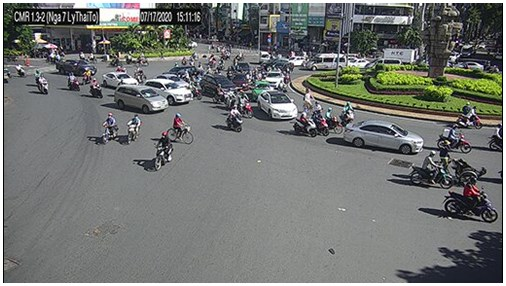xe_ban_tai: (56, 59, 96, 78)
xe_dap: (167, 113, 195, 144)
xe_hoi: (345, 120, 424, 156), (114, 84, 168, 113), (144, 78, 193, 105), (257, 91, 297, 121), (200, 75, 236, 98), (155, 73, 192, 94), (102, 72, 139, 89), (258, 59, 293, 74), (365, 58, 402, 71), (453, 59, 485, 73), (232, 73, 254, 92), (264, 71, 287, 89), (288, 54, 308, 68), (351, 58, 371, 71)
xe_khach: (306, 54, 348, 71)
xe_may: (445, 178, 498, 223), (410, 151, 451, 190), (437, 124, 472, 155), (155, 132, 173, 173), (294, 107, 317, 139), (458, 101, 481, 131), (102, 113, 119, 146), (311, 107, 329, 137), (324, 107, 342, 135), (236, 90, 253, 119), (226, 104, 242, 133), (127, 115, 142, 145), (489, 124, 504, 153), (211, 83, 228, 105), (67, 71, 81, 93), (340, 102, 352, 126), (90, 78, 102, 99), (38, 73, 48, 95), (134, 66, 145, 83), (33, 68, 43, 86), (82, 68, 92, 86), (107, 54, 120, 67), (284, 67, 292, 85), (207, 53, 217, 67), (137, 54, 148, 65), (190, 51, 200, 62), (180, 56, 187, 65)
xe_tai: (374, 48, 419, 66)
xe_xich_lo: (432, 140, 488, 187)
